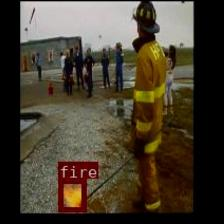fire: (58, 178, 85, 210)
